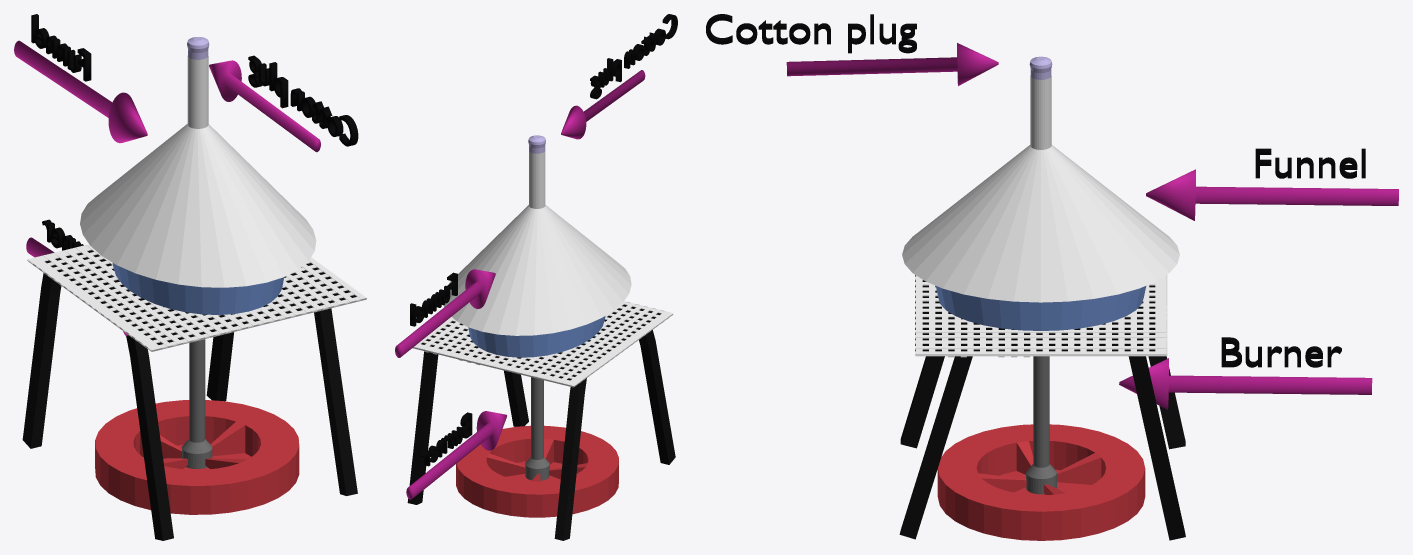
File: Sublimation.gltf
The picture shows the model from 3 angles, left to right: view 1: azimuth 30°, elevation 25°; view 2: azimuth 150°, elevation 25°; view 3: azimuth 270°, elevation 25°; orthographic projection. The views are drawn at different scales.
Parts seen in each view (by area): view 1: Circle.002, Circle, Plane, Circle.001, Cube.002, Cube, Cube.003, Cylinder.003, Text.002, Cylinder, Cylinder.004, Text.001 (+3 smaller); view 2: Circle.002, Circle, Plane, Circle.001, Cube.003, Cube.002, Cube.001, Cylinder.003, Cylinder.006, Text.002, Cylinder, Cylinder.004 (+3 smaller); view 3: Circle.002, Circle, Plane, Circle.001, Cylinder.003, Cylinder.006, Cylinder.004, Cube, Cube.001, Text.002, Cylinder, Cube.002 (+3 smaller).
Boxes of the visible parts, left/top/right/bottom form: Circle.002: left=80, top=56, right=316, bottom=287; Circle: left=95, top=400, right=299, bottom=514; Plane: left=27, top=244, right=366, bottom=351; Circle.001: left=112, top=263, right=284, bottom=314; Cube.002: left=126, top=335, right=173, bottom=540; Cube: left=314, top=308, right=357, bottom=495; Cube.003: left=22, top=273, right=61, bottom=448; Cylinder.003: left=14, top=40, right=147, bottom=143; Text.002: left=248, top=55, right=358, bottom=146; Cylinder: left=182, top=339, right=212, bottom=468; Cylinder.004: left=209, top=60, right=320, bottom=152; Text.001: left=31, top=14, right=91, bottom=81; Circle.002: left=443, top=151, right=631, bottom=335; Circle: left=456, top=425, right=618, bottom=517; Plane: left=412, top=301, right=673, bottom=387; Circle.001: left=468, top=316, right=605, bottom=357; Cube.003: left=554, top=378, right=586, bottom=540; Cube.002: left=639, top=330, right=675, bottom=464; Cube.001: left=407, top=351, right=438, bottom=504; Cylinder.003: left=395, top=269, right=495, bottom=357; Cylinder.006: left=406, top=411, right=506, bottom=499; Text.002: left=590, top=14, right=677, bottom=99; Cylinder: left=525, top=377, right=549, bottom=480; Cylinder.004: left=561, top=70, right=645, bottom=139; Circle.002: left=902, top=76, right=1179, bottom=302; Circle: left=937, top=424, right=1145, bottom=540; Plane: left=915, top=274, right=1167, bottom=357; Circle.001: left=935, top=286, right=1146, bottom=330; Cylinder.003: left=1146, top=169, right=1398, bottom=220; Cylinder.006: left=1119, top=358, right=1372, bottom=409; Cylinder.004: left=786, top=43, right=998, bottom=85; Cube: left=899, top=356, right=972, bottom=539; Cube.001: left=1128, top=344, right=1185, bottom=540; Text.002: left=706, top=14, right=916, bottom=53; Cylinder: left=1026, top=356, right=1056, bottom=494; Cube.002: left=900, top=356, right=944, bottom=448.
Size of the model in its own units: 0.7993 by 1.67 by 2.19.
